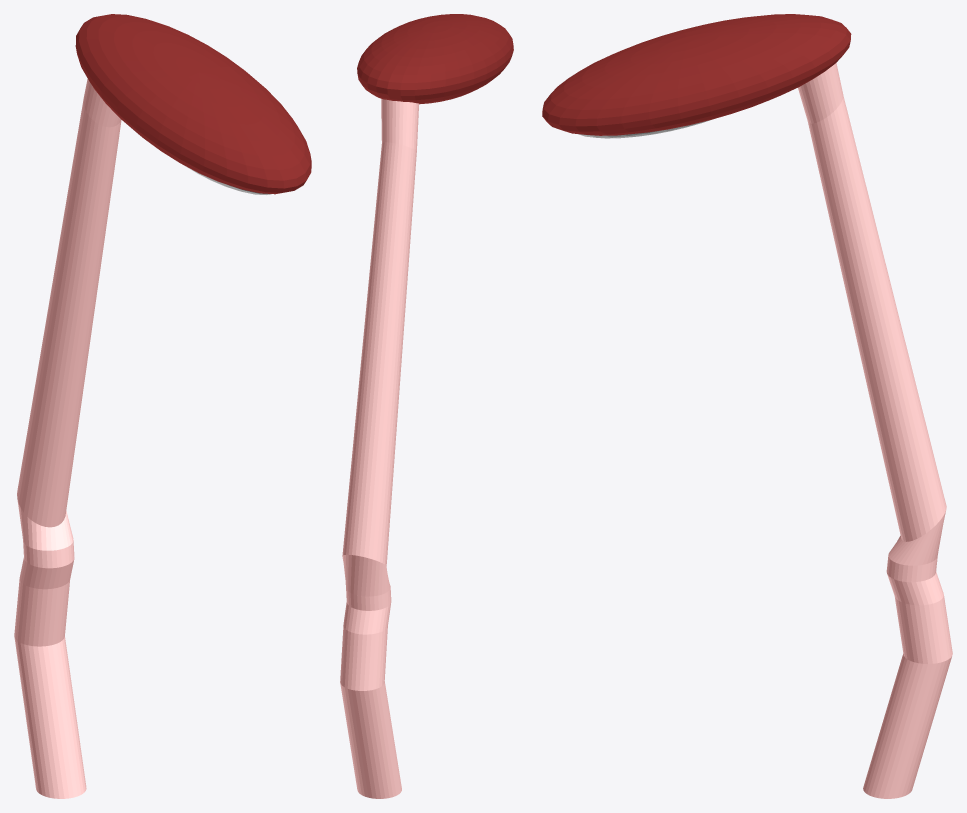
File: Lamppostbutbent.fbx
3 views of the same model, side by side, from view 1: azimuth 30°, elevation 25°; view 2: azimuth 150°, elevation 25°; view 3: azimuth 270°, elevation 25° (orthographic). The views are drawn at different scales.
Parts seen in each view (by area): view 1: Cylinder; view 2: Cylinder; view 3: Cylinder.
Boxes of the visible parts, x1,y1,x2,y2 form: Cylinder: (14, 14, 311, 798); Cylinder: (340, 14, 513, 798); Cylinder: (542, 14, 952, 798).
Bounding box in the file's own units: 120 × 663 × 319.
